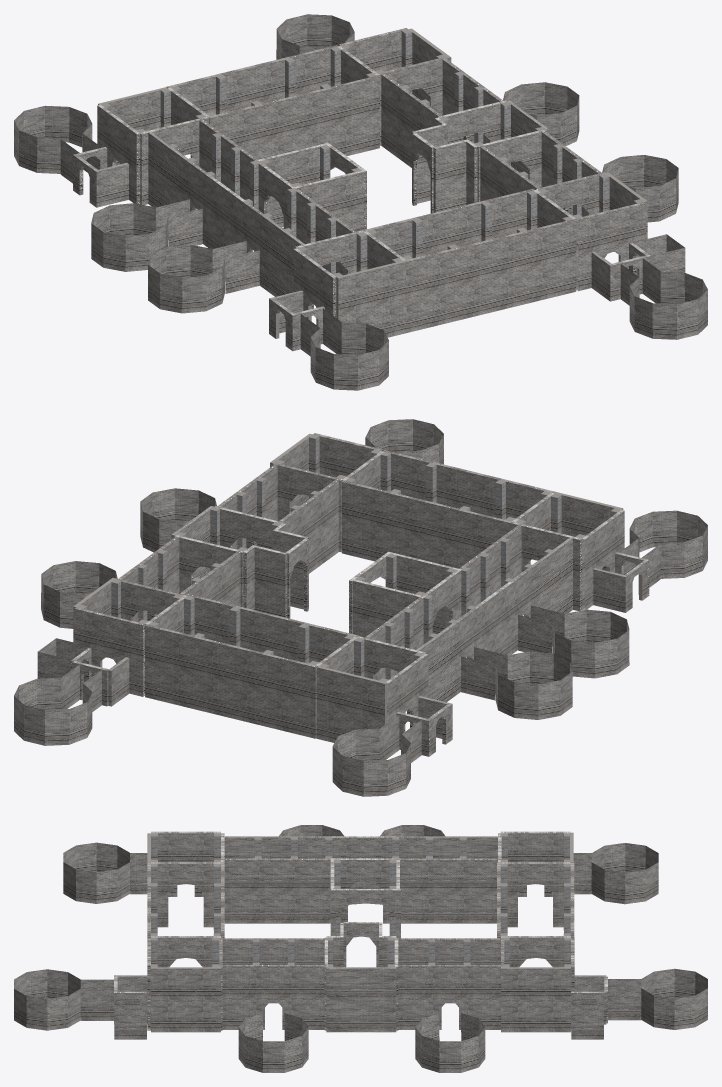
File: bastille_interior.fbm.fbx
3 views of the same model, one above another, from view 1: azimuth 30°, elevation 25°; view 2: azimuth 150°, elevation 25°; view 3: azimuth 270°, elevation 25° (orthographic). The views are drawn at different scales.
Parts seen in each view (by area): view 1: main_walls, decorative_walls, columns1; view 2: main_walls, decorative_walls, columns1; view 3: main_walls, columns1, decorative_walls.
Part boxes in pixels (box(x1,y1,x2,y2)): main_walls: box(14, 14, 707, 390); decorative_walls: box(148, 84, 576, 332); columns1: box(101, 29, 643, 289); main_walls: box(14, 419, 707, 796); decorative_walls: box(145, 489, 572, 738); columns1: box(76, 434, 620, 722); main_walls: box(14, 825, 707, 1072); columns1: box(150, 833, 571, 1030); decorative_walls: box(224, 880, 496, 1003).
Bounding box in the file's own units: 292 × 40.19 × 396.
